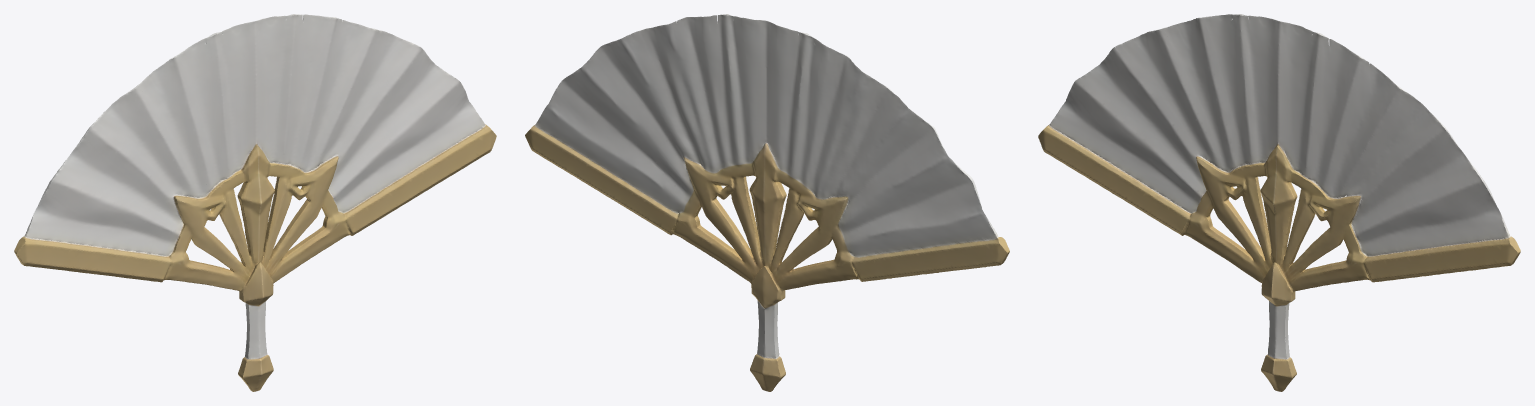
The model's file is WPN_FAN_01.glb.
3 views of the same model, side by side, from view 1: azimuth 30°, elevation 25°; view 2: azimuth 150°, elevation 25°; view 3: azimuth 330°, elevation 25° (orthographic).
Parts seen in each view (by area): view 1: model; view 2: model; view 3: model.
Part boxes in pixels (x1,y1,x2,y2): model: (14,14,496,391); model: (525,14,1009,391); model: (1038,14,1520,391).
Size of the model in its own units: 1.84 by 1.35 by 0.0837.
Materials: 1 (1 with a texture image).
